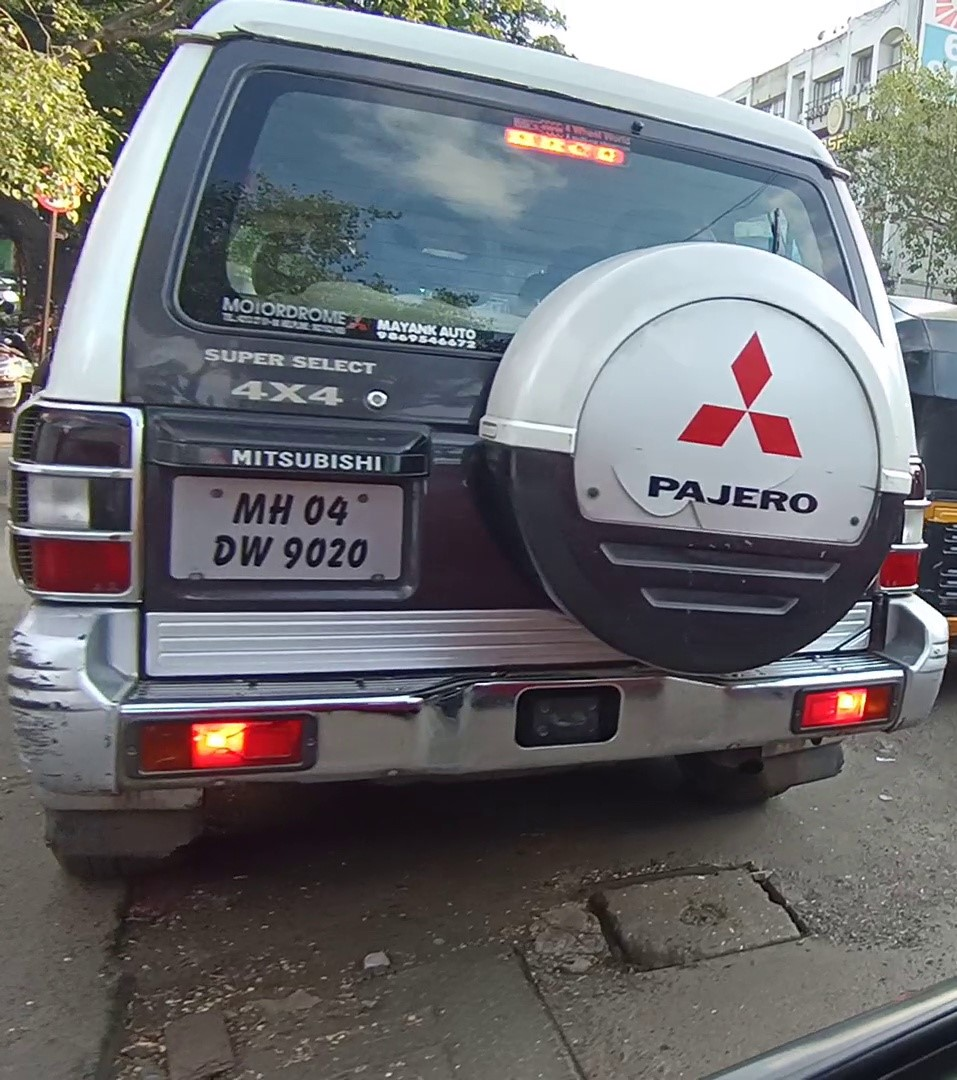MH04DW9020: (170, 473, 405, 582)
